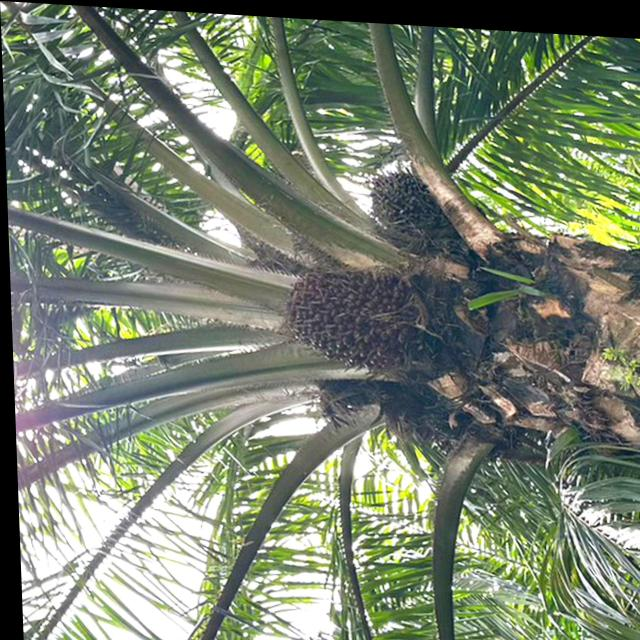ripe: (264, 249, 423, 370)
